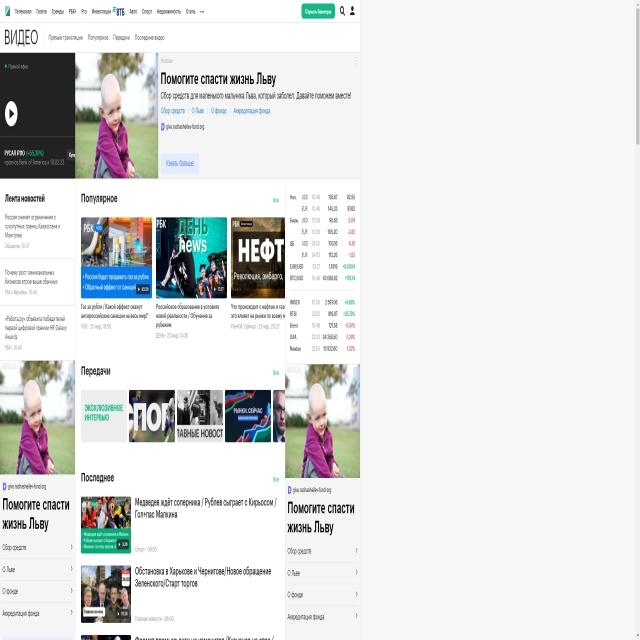side-panel: (285, 182, 360, 635), (1, 189, 75, 638)
tab-bar: (45, 28, 166, 46)
